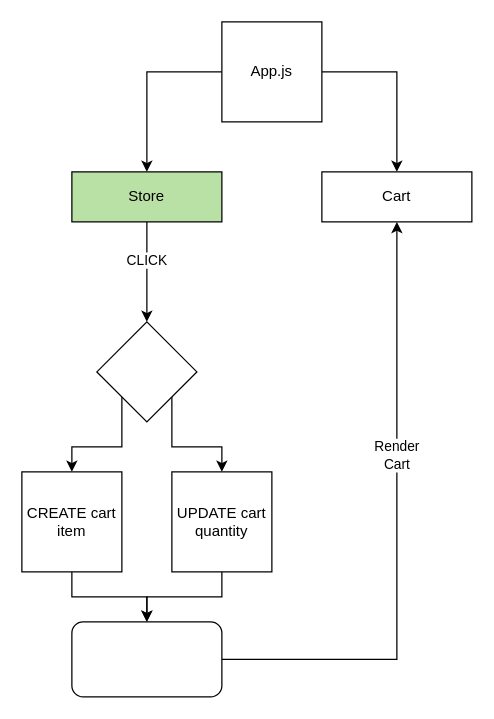
The diagram is 494 pixels wide and 719 high, and some of its shapes have lost their labels. The centre of each missing label's shape, as x and y in pixels:
Already in cart?: [146,371]
CART STATE: [146,659]
